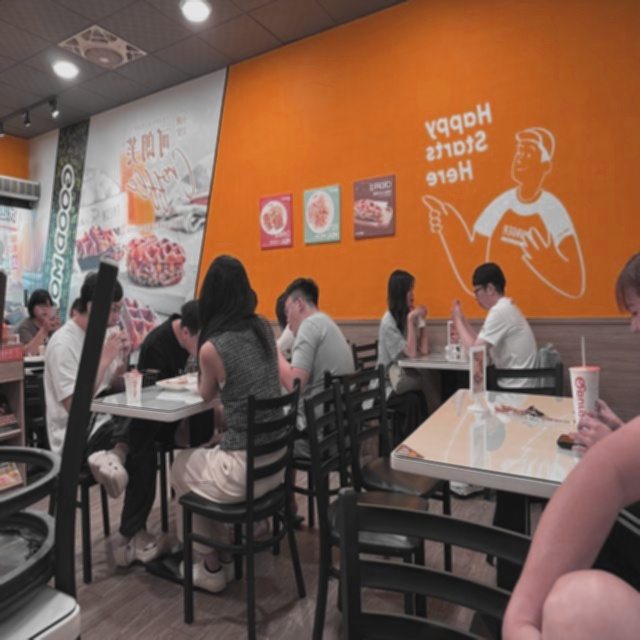Sin_Casco_Mascarrilla: (204, 255, 250, 323), (282, 276, 320, 324), (472, 263, 504, 308), (387, 270, 415, 313), (28, 288, 53, 322)
